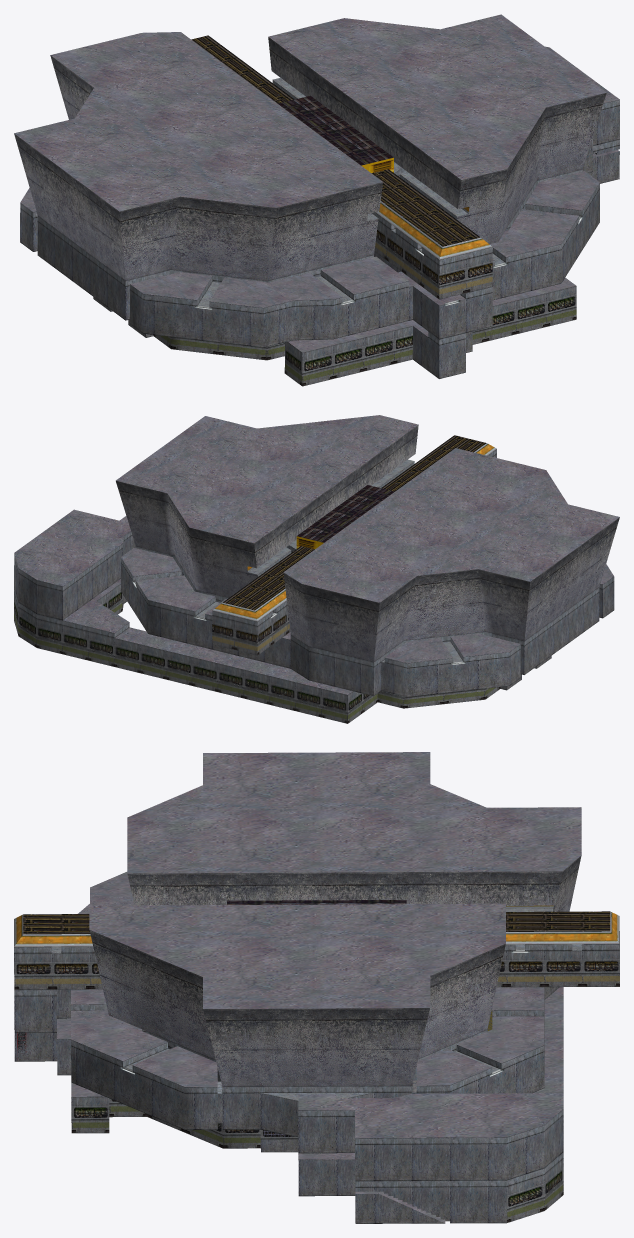
The picture shows the model from 3 angles, top to bottom: view 1: azimuth 30°, elevation 25°; view 2: azimuth 150°, elevation 25°; view 3: azimuth 270°, elevation 25°; orthographic projection. The views are drawn at different scales.
Visible parts, largest first — view 1: Object_25, Object_7, Object_2, Object_6, Object_22, Object_17, Object_18, Object_12, Object_3; view 2: Object_25, Object_7, Object_2, Object_6, Object_22, Object_17, Object_18, Object_12, Object_3; view 3: Object_25, Object_7, Object_2, Object_22, Object_6, Object_17, Object_12, Object_3, Object_18, Object_24.
Part boxes in pixels (x1,y1,x2,y2): Object_25: (14, 14, 619, 352); Object_7: (14, 37, 606, 280); Object_2: (20, 99, 619, 378); Object_6: (141, 277, 576, 386); Object_22: (197, 80, 582, 305); Object_17: (191, 35, 480, 246); Object_18: (278, 95, 393, 165); Object_12: (375, 201, 492, 259); Object_3: (194, 77, 583, 307); Object_25: (14, 415, 619, 694); Object_7: (116, 425, 619, 662); Object_2: (14, 531, 614, 697); Object_6: (14, 584, 511, 723); Object_22: (133, 449, 496, 661); Object_17: (223, 435, 486, 610); Object_18: (297, 485, 394, 542); Object_12: (212, 443, 496, 621); Object_3: (132, 459, 465, 662); Object_25: (57, 752, 581, 1222); Object_7: (89, 855, 581, 1086); Object_2: (14, 987, 563, 1223); Object_22: (14, 931, 619, 1069); Object_6: (71, 1030, 563, 1222); Object_17: (23, 911, 610, 934); Object_12: (14, 905, 619, 946); Object_3: (52, 905, 581, 1100); Object_18: (227, 900, 406, 904); Object_24: (260, 1129, 298, 1152).
Bounding box in the file's own units: 42.11 × 11.41 × 35.94.
31 materials, 31 textured.
